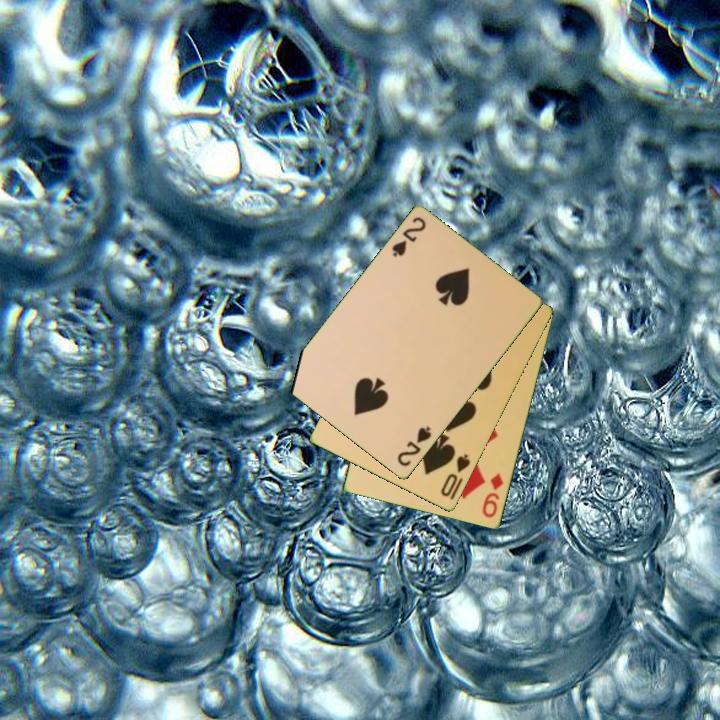10s: (437, 451, 474, 500)
2s: (388, 213, 429, 260), (394, 423, 434, 470)
9d: (479, 470, 506, 521)
